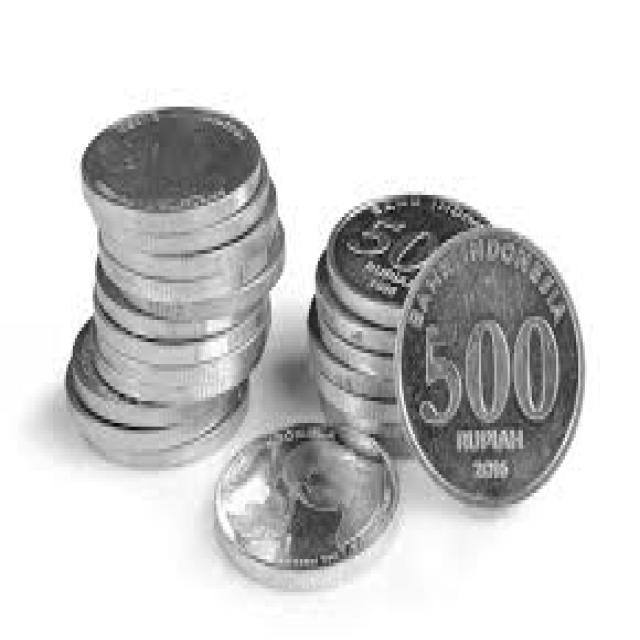500-silver: (392, 225, 585, 511)
